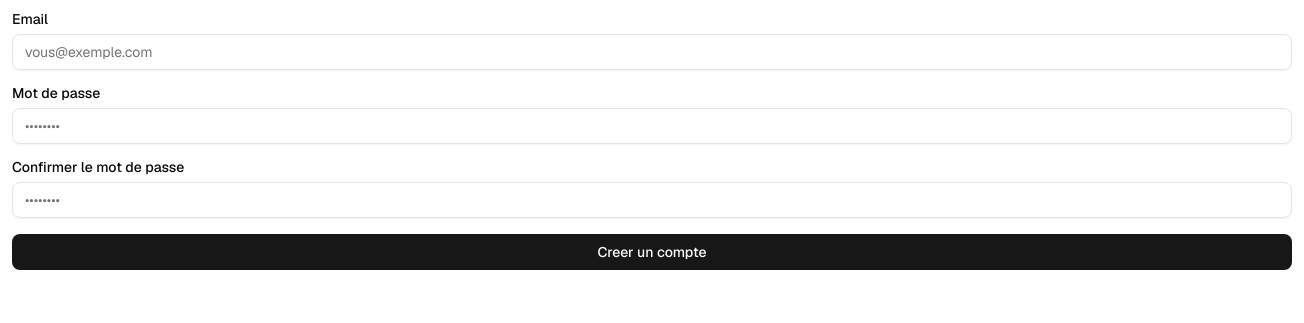
it: RegisterForm › displays error message on failed sign up
The width and height of the screenshot is (1304, 323).
Type "test@example.com" into the field labelled "Email" at (652, 52), box x1=12 y1=34 x2=1292 y2=70
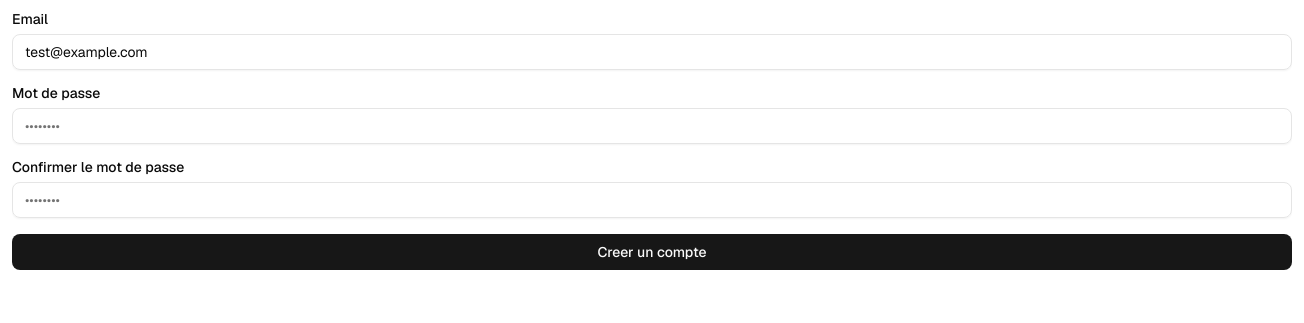
Type "password123" into the password field labelled "Mot de passe" at (652, 126), box x1=12 y1=108 x2=1292 y2=144
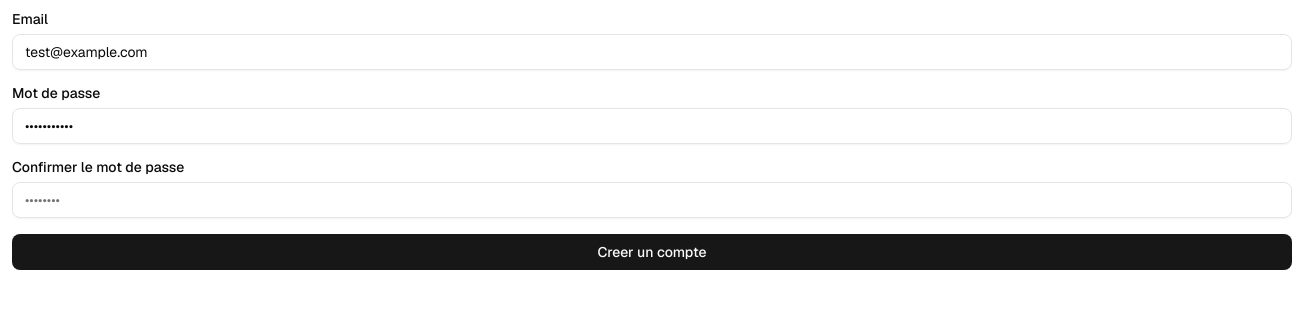
Type "password123" into the password field labelled "Confirmer le mot de passe" at (652, 200), box x1=12 y1=182 x2=1292 y2=218
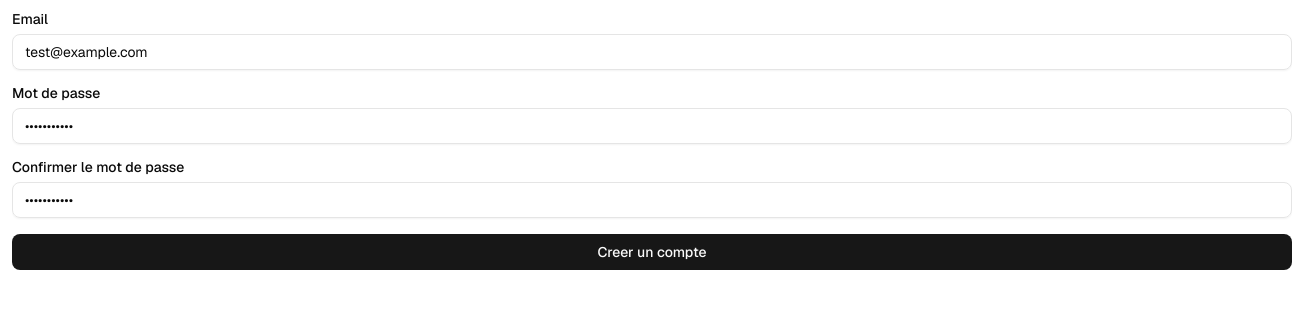
Click the button "Creer un compte" at (652, 252), box x1=12 y1=234 x2=1292 y2=270
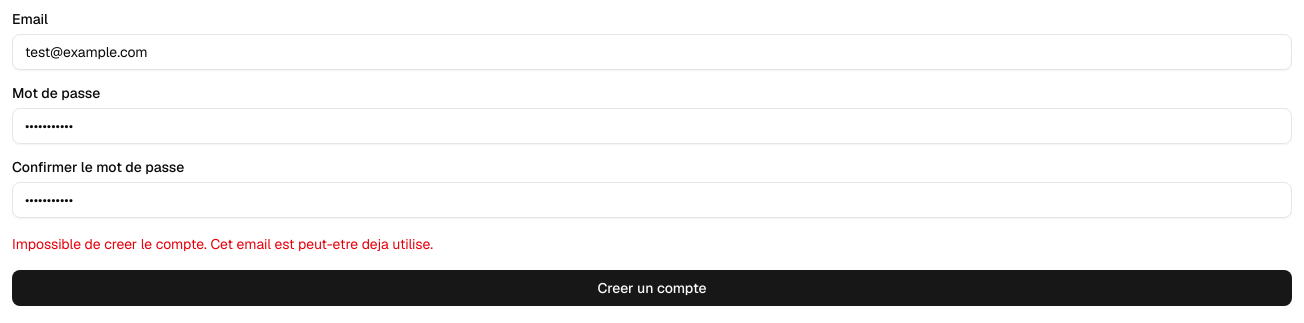
expect the text "Impossible de creer le compte. Cet email est peut-etre deja utilise." is shown: met, box x1=12 y1=235 x2=433 y2=253
